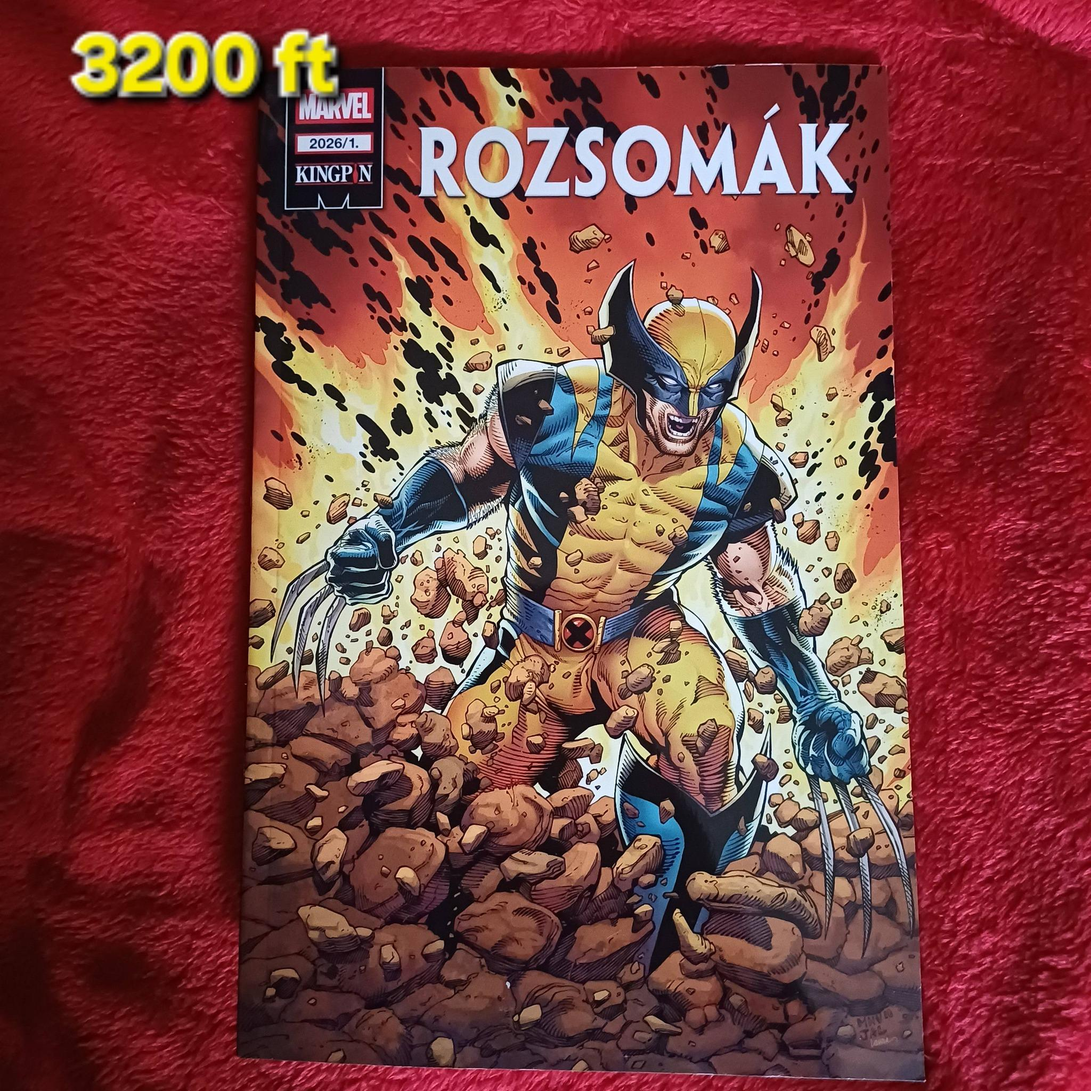comic: (239, 57, 936, 1080)
